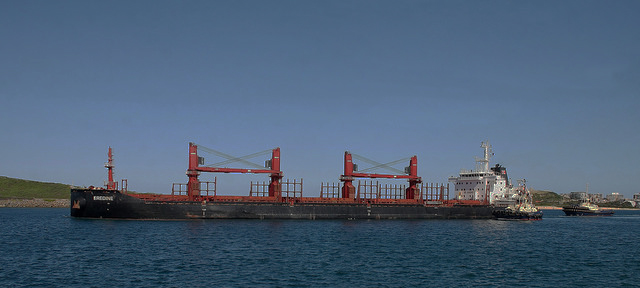bulk carrier: (66, 138, 545, 225)
tug_boat: (566, 184, 621, 221)
